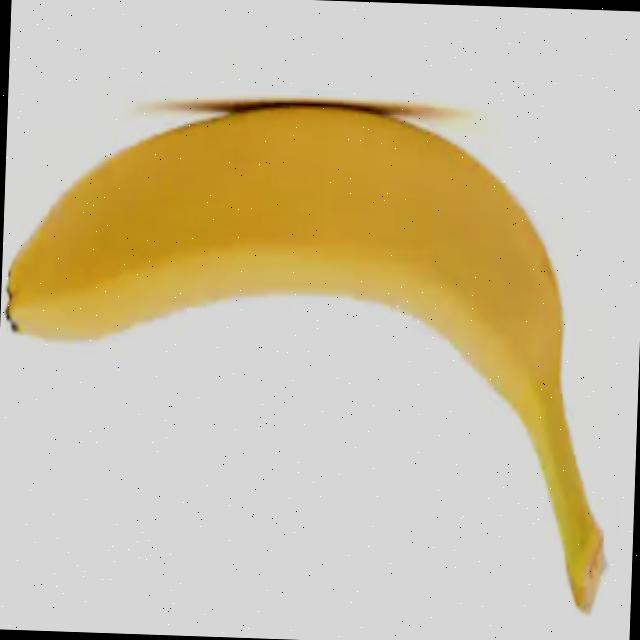banana: (0, 94, 621, 618)
